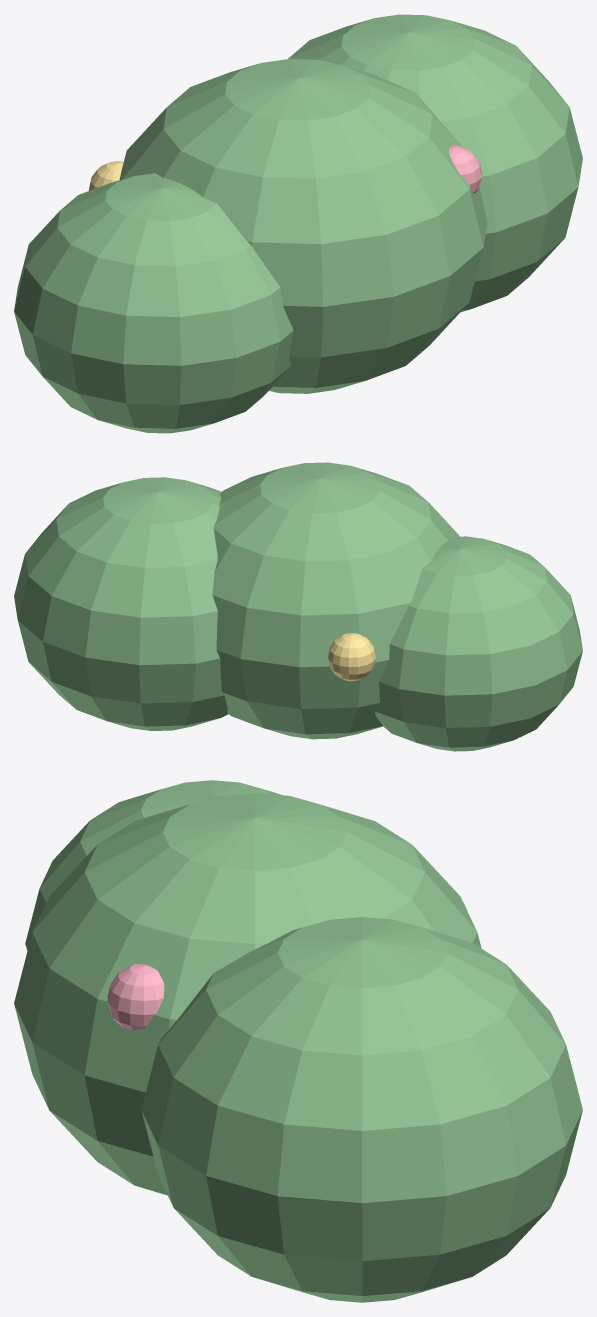
File: BerryBush.glb
3 renders of one model, top to bottom at view 1: azimuth 30°, elevation 25°; view 2: azimuth 150°, elevation 25°; view 3: azimuth 270°, elevation 25°, orthographic. The views are drawn at different scales.
Parts seen in each view (by area): view 1: BerryBush_0, BerryBush_1, BerryBush_2; view 2: BerryBush_0, BerryBush_2; view 3: BerryBush_0, BerryBush_1.
Part boxes in pixels (left/top/right/bottom): BerryBush_0: left=14, top=14, right=582, bottom=433; BerryBush_1: left=449, top=145, right=482, bottom=193; BerryBush_2: left=88, top=161, right=123, bottom=190; BerryBush_0: left=14, top=462, right=582, bottom=751; BerryBush_2: left=328, top=633, right=375, bottom=681; BerryBush_0: left=14, top=780, right=582, bottom=1302; BerryBush_1: left=107, top=964, right=164, bottom=1030.
Bounding box in the file's own units: 5.76 × 2.77 × 3.85.
